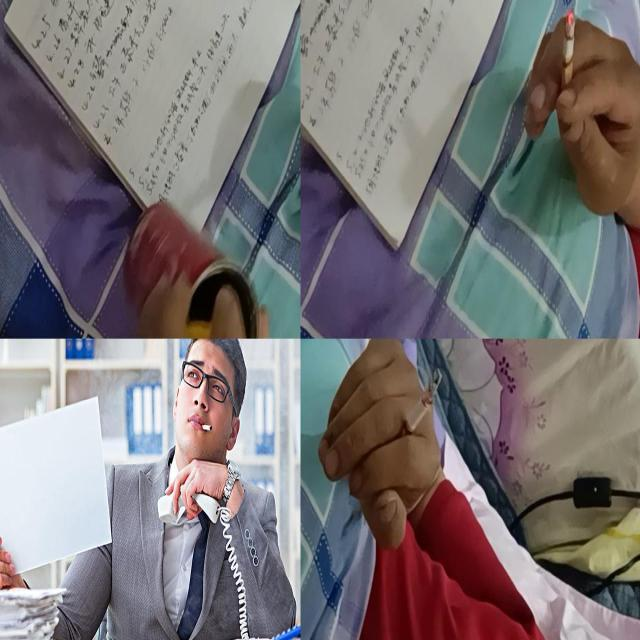smoking: (394, 369, 444, 444), (560, 10, 576, 112), (199, 424, 213, 432)
